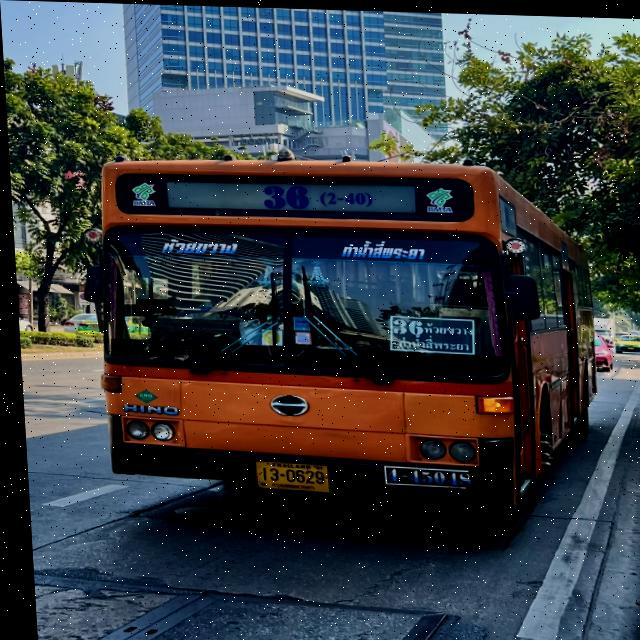BMTA-bus: (76, 152, 601, 511)
Bus-Line-Number: (244, 174, 374, 213)
Destination-Sign-Normal: (388, 311, 473, 353)
